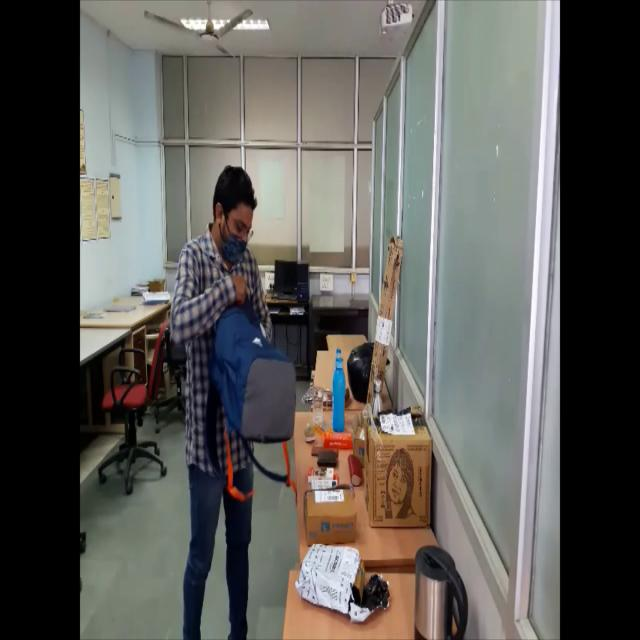shoplifting: (166, 150, 301, 640)
